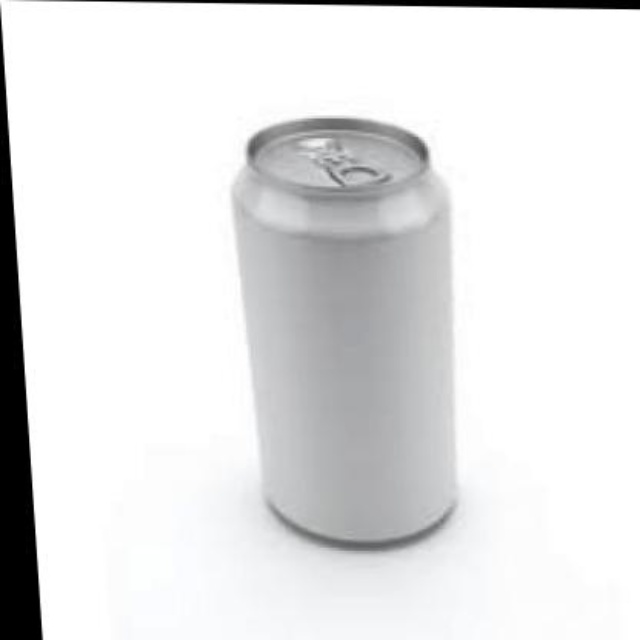trash: (232, 117, 454, 542)
